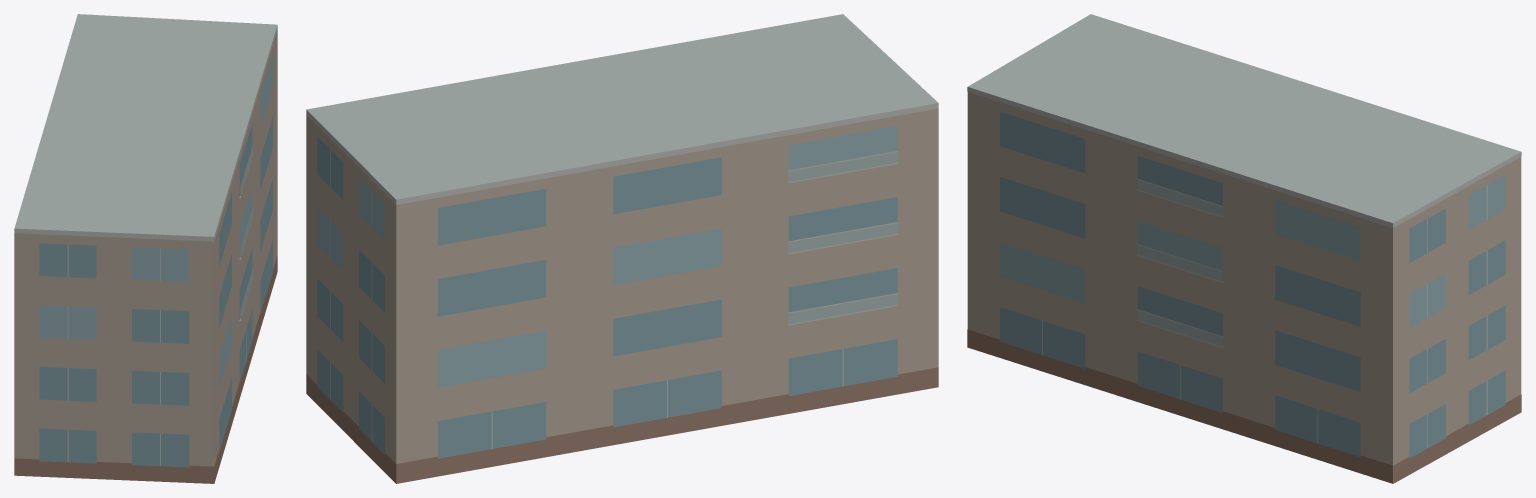
Rendered from survey-upis-33015585.glb.
3 views of the same model, side by side, from view 1: azimuth 30°, elevation 25°; view 2: azimuth 150°, elevation 25°; view 3: azimuth 270°, elevation 25° (orthographic). The views are drawn at different scales.
Visible parts, largest first — view 1: survey-upis-33015585.tmp; view 2: survey-upis-33015585.tmp; view 3: survey-upis-33015585.tmp.
Boxes of the visible parts, <box> form: survey-upis-33015585.tmp: <box>14,14,277,483</box>; survey-upis-33015585.tmp: <box>306,14,938,483</box>; survey-upis-33015585.tmp: <box>967,14,1521,483</box>.
Size of the model in its own units: 22.05 by 12.8 by 24.66.
